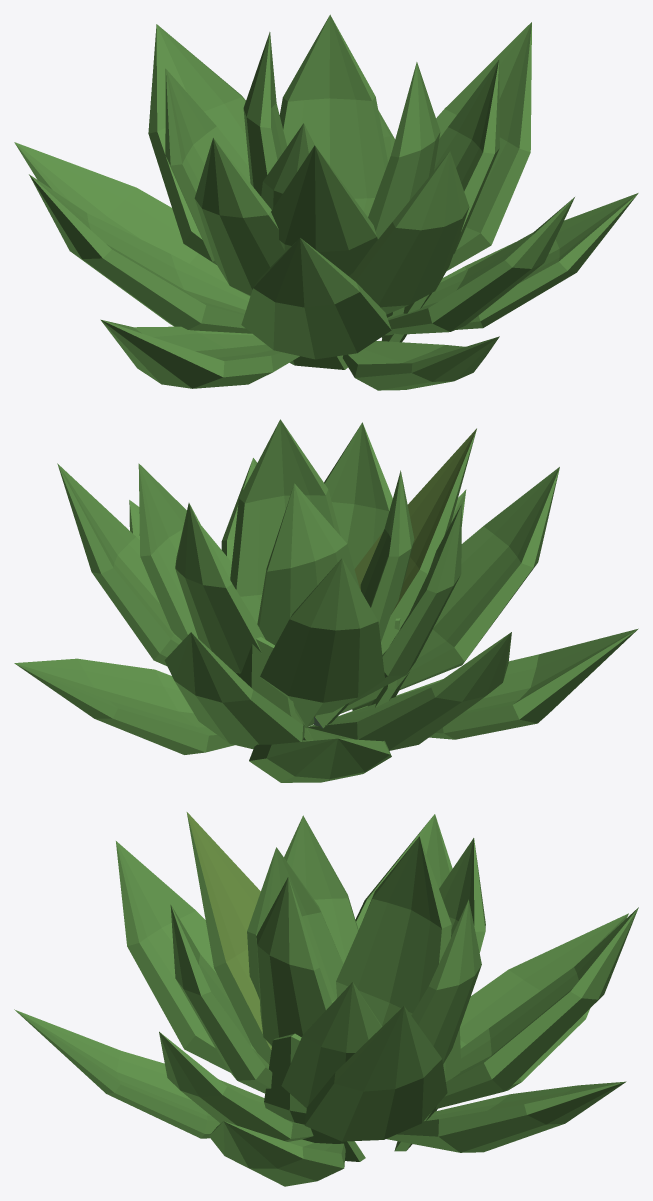
Rendered from Aloe.fbx.
3 renders of one model, top to bottom at view 1: azimuth 30°, elevation 25°; view 2: azimuth 150°, elevation 25°; view 3: azimuth 270°, elevation 25°, orthographic. The views are drawn at different scales.
Visible parts, largest first — view 1: Aloe_Plant, Aloe_Crop, Aloe_Sprout; view 2: Aloe_Plant, Aloe_Crop, Aloe_Sprout; view 3: Aloe_Plant, Aloe_Crop, Aloe_Sprout.
Boxes of the visible parts, x1,y1,x2,y2 form: Aloe_Plant: [14, 14, 638, 390]; Aloe_Crop: [271, 145, 392, 317]; Aloe_Sprout: [289, 293, 431, 369]; Aloe_Plant: [14, 419, 638, 782]; Aloe_Crop: [313, 428, 476, 728]; Aloe_Sprout: [235, 618, 412, 740]; Aloe_Plant: [14, 814, 638, 1186]; Aloe_Crop: [186, 812, 271, 1064]; Aloe_Sprout: [264, 1028, 461, 1161].
Size of the model in its own units: 0.9304 by 0.4764 by 0.9496.
